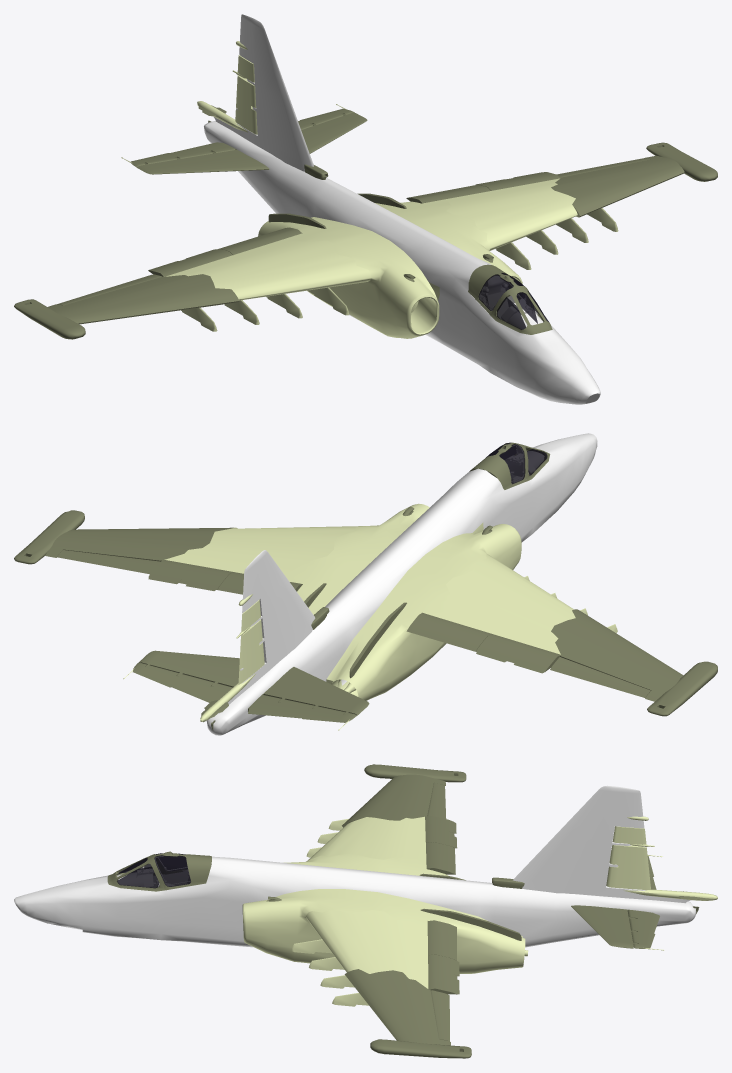
File: Airplane.fbx
3 views of the same model, one above another, from view 1: azimuth 30°, elevation 25°; view 2: azimuth 150°, elevation 25°; view 3: azimuth 270°, elevation 25° (orthographic). The views are drawn at different scales.
Parts seen in each view (by area): view 1: Airplane; view 2: Airplane; view 3: Airplane.
Part boxes in pixels (bbox=[...]): Airplane: bbox=[14, 14, 717, 404]; Airplane: bbox=[14, 433, 717, 735]; Airplane: bbox=[14, 764, 717, 1058].
Size of the model in its own units: 6.46 by 1.79 by 6.75.
